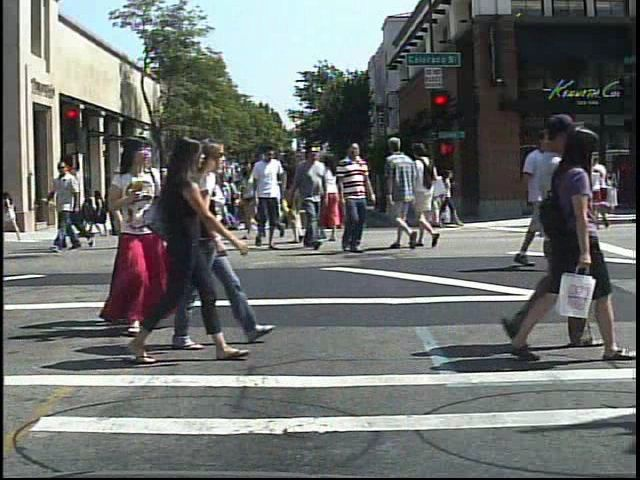person: (510, 114, 627, 373), (507, 105, 606, 360), (131, 131, 226, 369), (104, 131, 184, 338), (193, 134, 268, 353), (117, 130, 164, 336), (507, 124, 565, 272), (330, 141, 378, 257), (293, 141, 332, 252), (284, 142, 324, 250), (160, 154, 201, 253), (386, 135, 419, 253), (250, 144, 284, 256), (415, 138, 445, 250), (320, 147, 352, 248), (125, 158, 160, 245), (533, 154, 561, 238), (236, 167, 257, 236), (62, 183, 82, 233)
